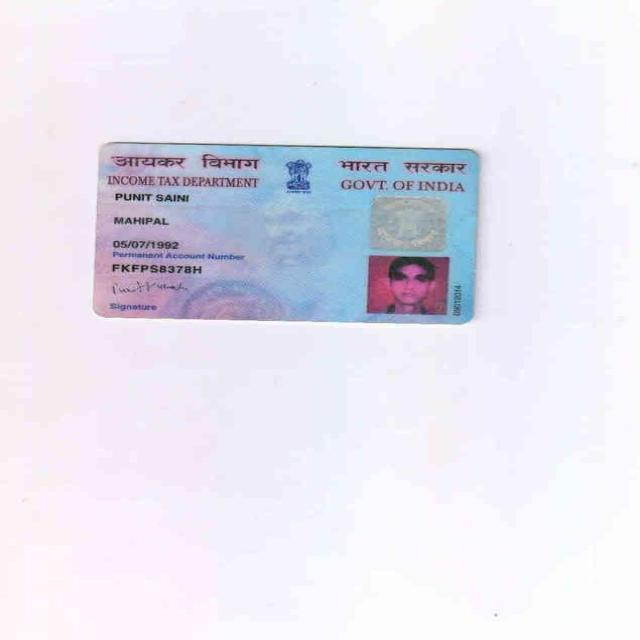pan_card: (91, 143, 479, 321)
